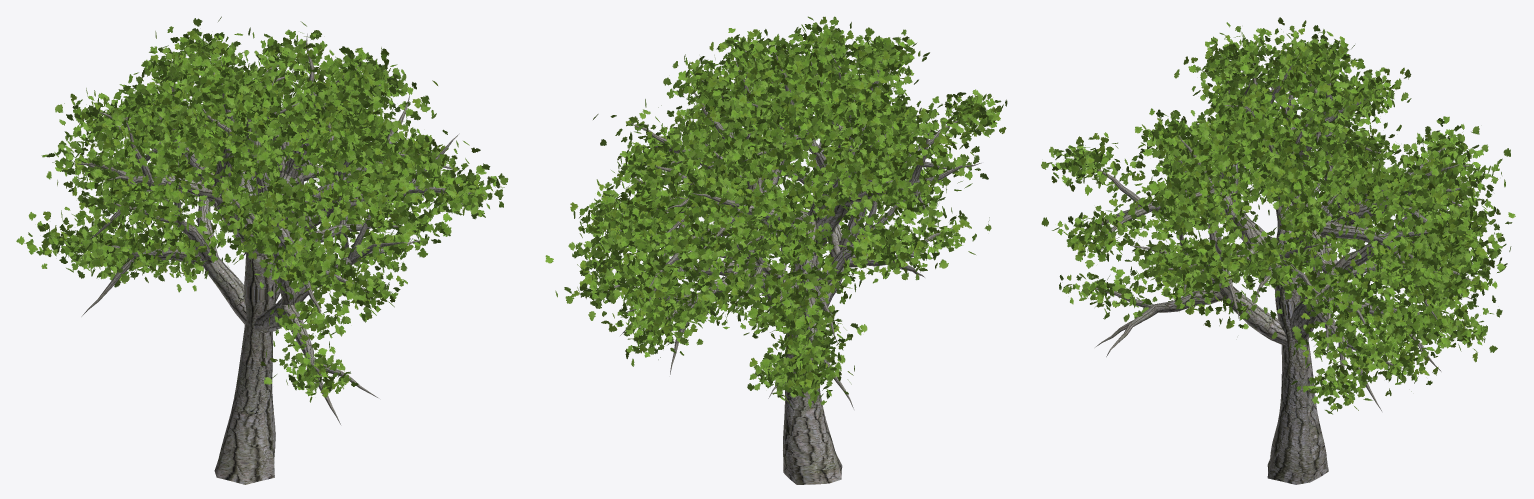
Rendered from linden_easytree_v018.glb.
3 views of the same model, side by side, from view 1: azimuth 30°, elevation 25°; view 2: azimuth 150°, elevation 25°; view 3: azimuth 270°, elevation 25° (orthographic). The views are drawn at different scales.
Parts seen in each view (by area): view 1: Tilo foliage cards, Tilo_EasyTree_V018_Proof; view 2: Tilo foliage cards, Tilo_EasyTree_V018_Proof; view 3: Tilo foliage cards, Tilo_EasyTree_V018_Proof.
Boxes of the visible parts, box(x1,y1,x2,y2) form: Tilo foliage cards: box(16, 16, 508, 402); Tilo_EasyTree_V018_Proof: box(74, 33, 471, 484); Tilo foliage cards: box(545, 16, 1007, 408); Tilo_EasyTree_V018_Proof: box(602, 42, 981, 484); Tilo foliage cards: box(1041, 17, 1515, 414); Tilo_EasyTree_V018_Proof: box(1083, 42, 1474, 484).
Bounding box in the file's own units: 7.72 × 8.09 × 8.29.
Materials: 2 (2 with a texture image).
